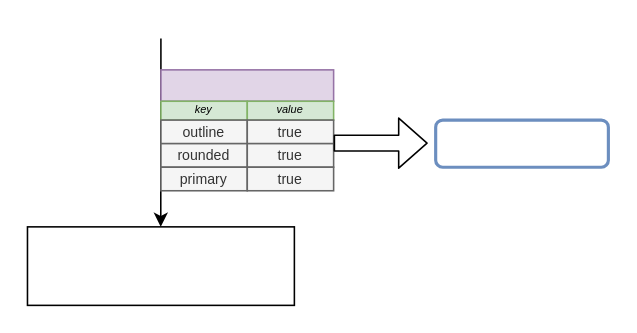
Image size: 637x333. Some labels were removed from this diagram. The centre of each missing label's shape, as x and y in pixels:
"Button" goes at point (521, 143).
"Button Component" goes at point (160, 265).
"Props" goes at point (246, 84).
